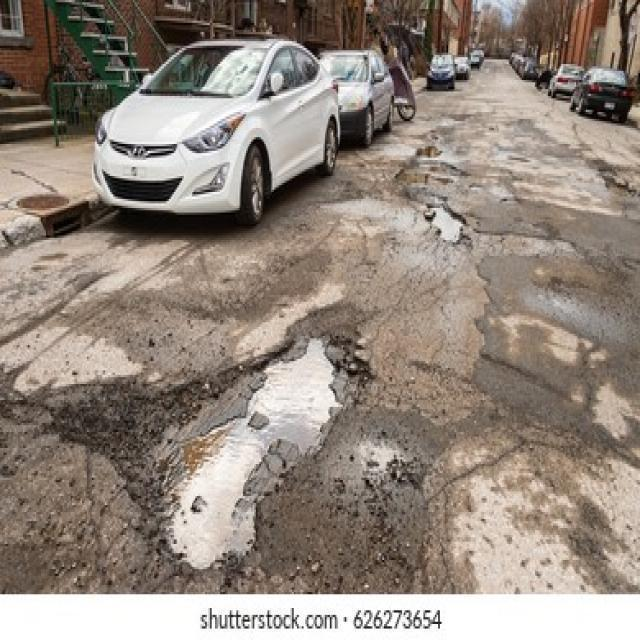pothole: (148, 331, 348, 574), (425, 202, 468, 247), (394, 167, 457, 187)
